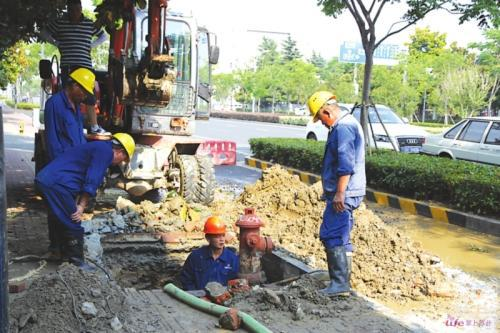head: (62, 1, 84, 23)
helmet: (64, 65, 100, 106), (307, 88, 342, 126), (105, 129, 137, 168), (203, 216, 229, 251)
